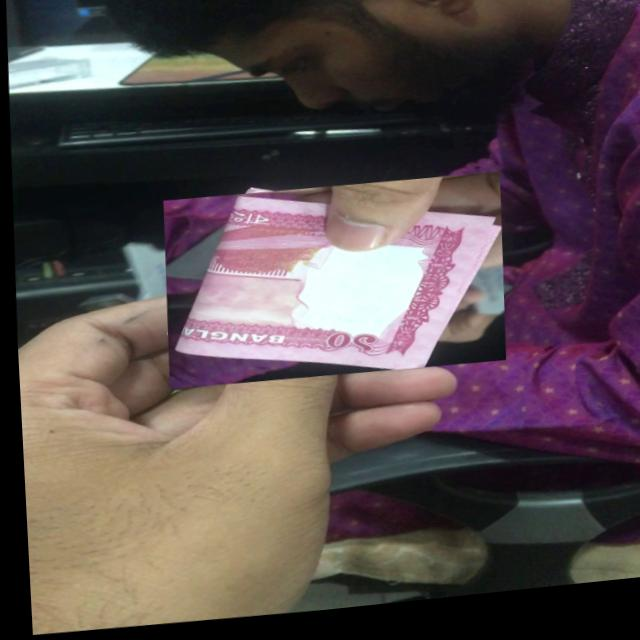Taka: (157, 176, 504, 398)
